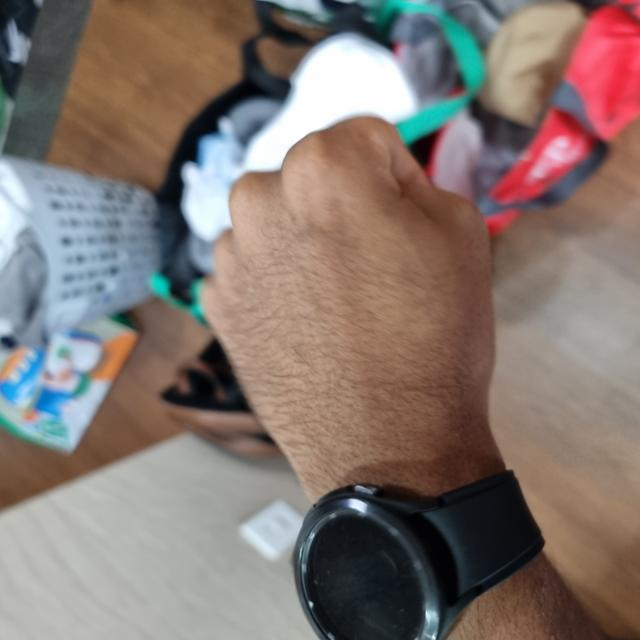Rock: (140, 207, 517, 496)
